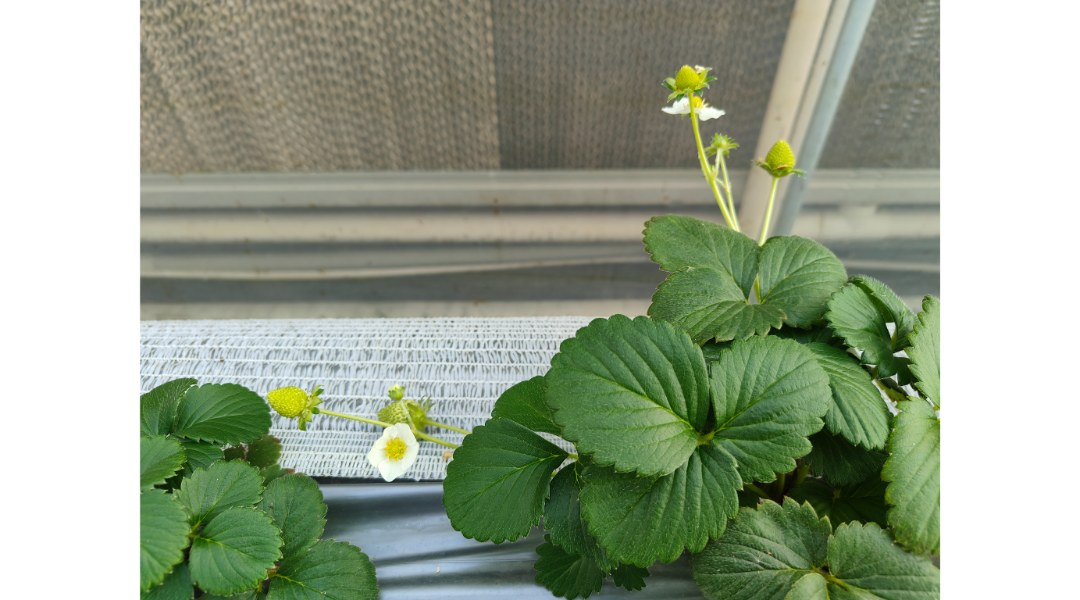berry: (256, 378, 328, 434), (657, 52, 712, 102), (755, 141, 806, 186)
flower: (352, 412, 418, 489), (660, 86, 729, 127)
strain: (321, 411, 457, 451), (761, 176, 779, 251)
